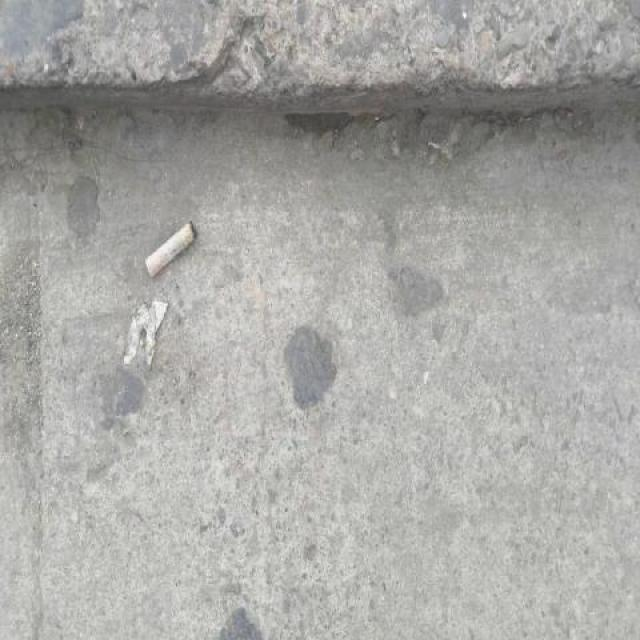non-organic waste: (140, 216, 204, 283)
